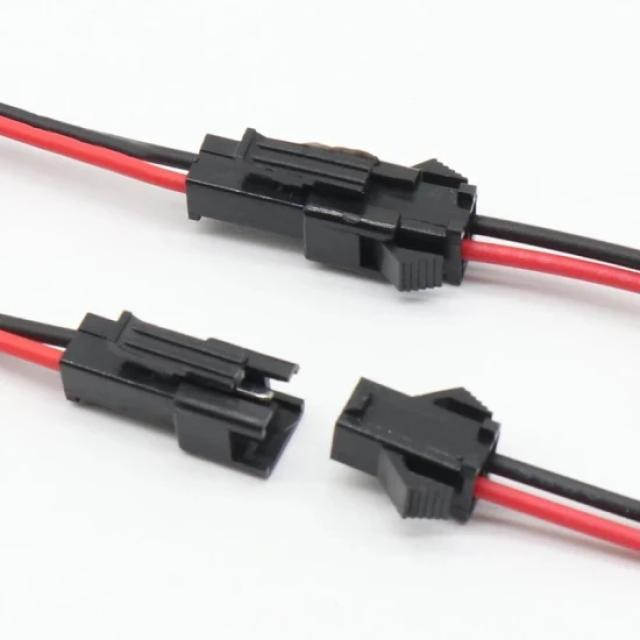connector: (44, 295, 315, 484), (325, 376, 501, 525)
